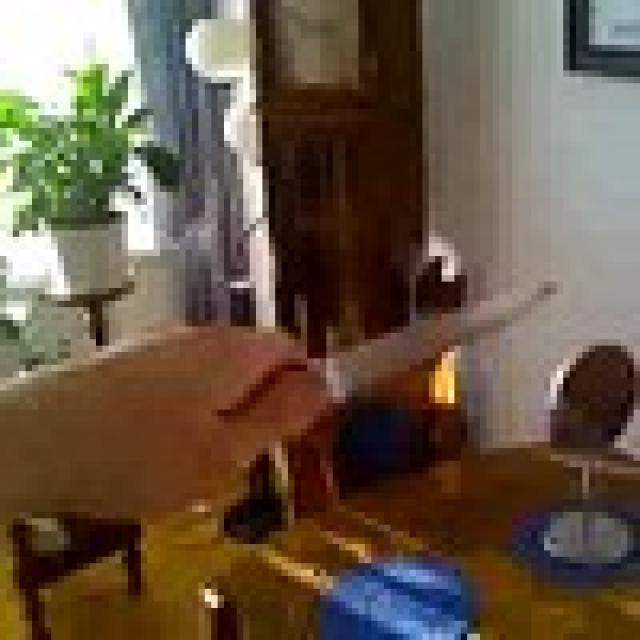Knife_Handle: (93, 278, 560, 515)
